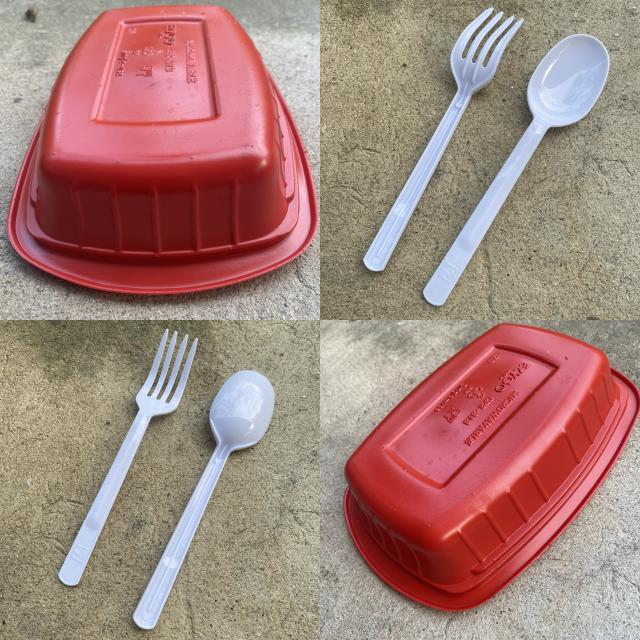Single-Use-Plastic: (8, 6, 318, 293), (344, 324, 640, 610), (425, 34, 610, 305), (364, 8, 522, 271), (134, 370, 274, 629), (59, 329, 197, 584)
